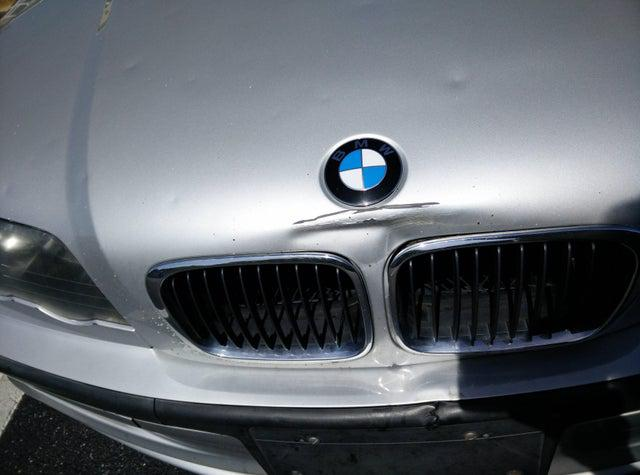bonnet-dent: (77, 0, 566, 277)
